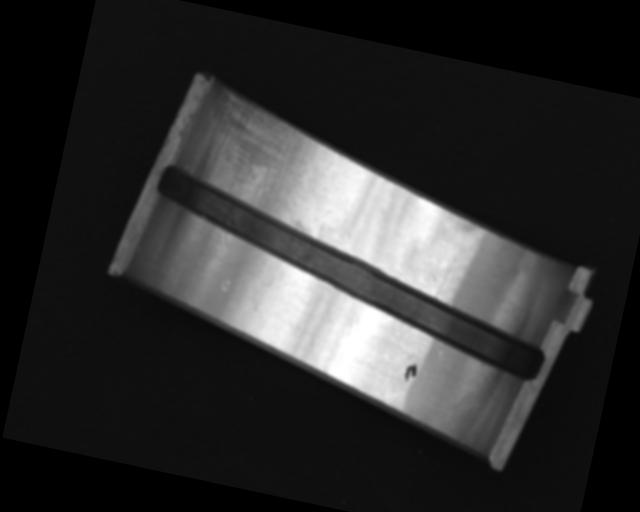blot: (401, 362, 420, 385)
bruise: (220, 277, 232, 293)
gap: (135, 166, 567, 383)
nick: (435, 255, 458, 303)
scratch: (189, 85, 338, 235)
